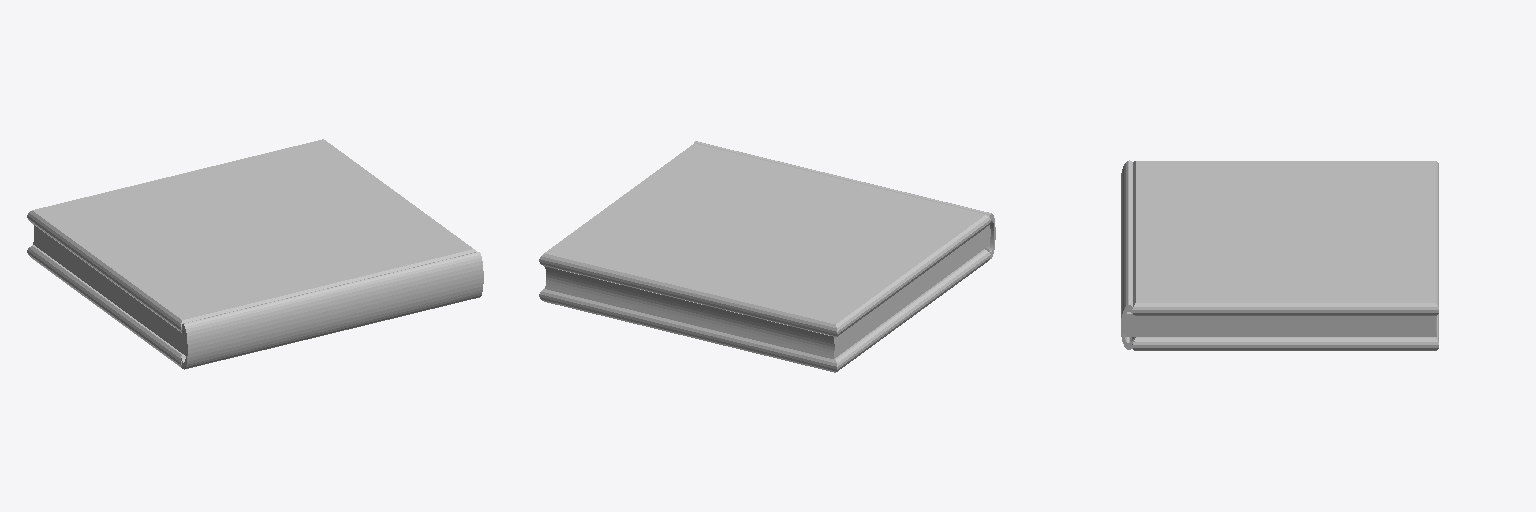
Rendered from manuel.obj.
3 renders of one model, left to right at view 1: azimuth 30°, elevation 25°; view 2: azimuth 150°, elevation 25°; view 3: azimuth 270°, elevation 25°, orthographic.
Visible parts, largest first — view 1: Cube, Cylindre, Cube.001; view 2: Cube, Cube.001, Cylindre; view 3: Cube, Cube.001, Cylindre.
Boxes of the visible parts, box(x1,y1,x2,y2) form: Cube: box(27, 139, 476, 368); Cylindre: box(181, 252, 483, 369); Cube.001: box(33, 225, 185, 355); Cube: box(539, 143, 990, 372); Cube.001: box(545, 225, 990, 358); Cylindre: box(694, 141, 995, 258); Cube: box(1132, 161, 1438, 350); Cube.001: box(1123, 312, 1436, 336); Cylindre: box(1121, 160, 1134, 349).
Bounding box in the file's own units: 0.2067 × 0.032 × 0.1914.